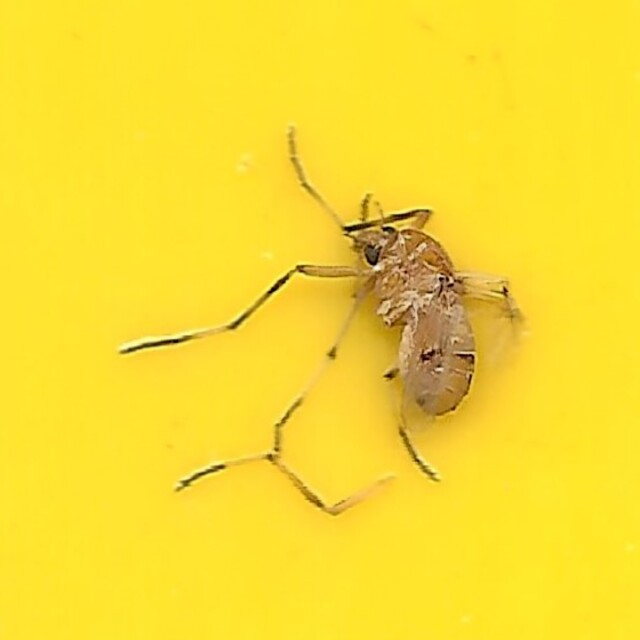Nematocera: (114, 124, 526, 516)
